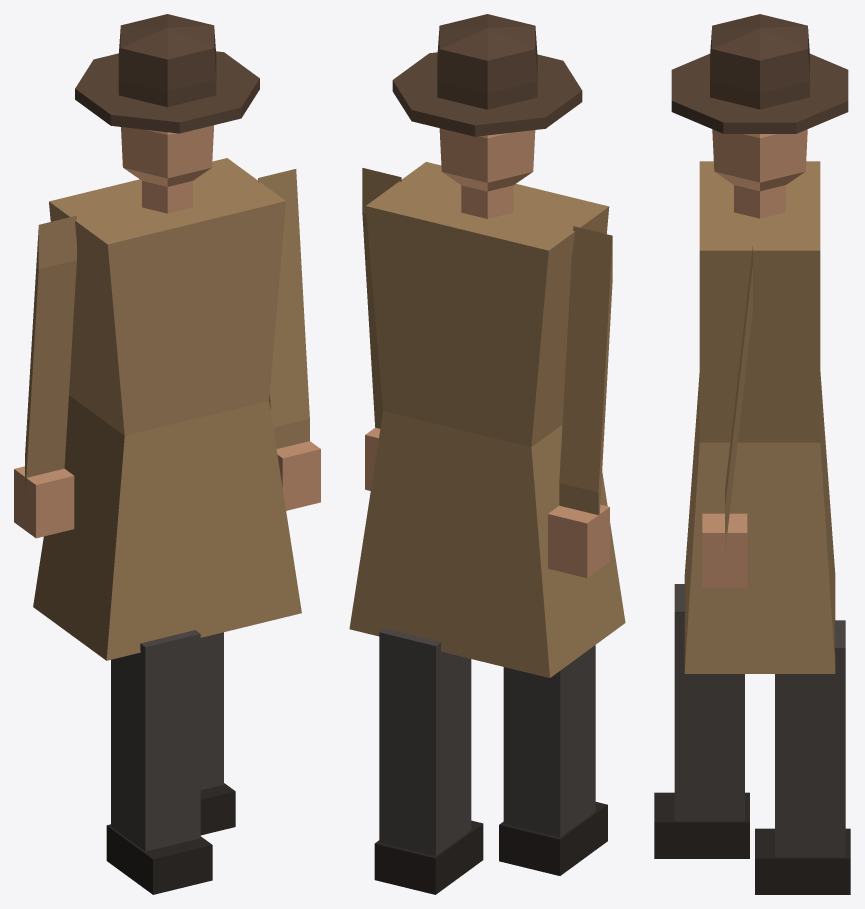
File: life_person_b.glb
3 renders of one model, left to right at view 1: azimuth 30°, elevation 25°; view 2: azimuth 150°, elevation 25°; view 3: azimuth 270°, elevation 25°, orthographic. The views are drawn at different scales.
Visible parts, largest first — view 1: life_person_b; view 2: life_person_b; view 3: life_person_b.
Part boxes in pixels (<box>): life_person_b: <box>14,14,320,894</box>; life_person_b: <box>349,14,625,894</box>; life_person_b: <box>654,14,850,894</box>.
Bounding box in the file's own units: 0.59 × 1.83 × 0.39.
